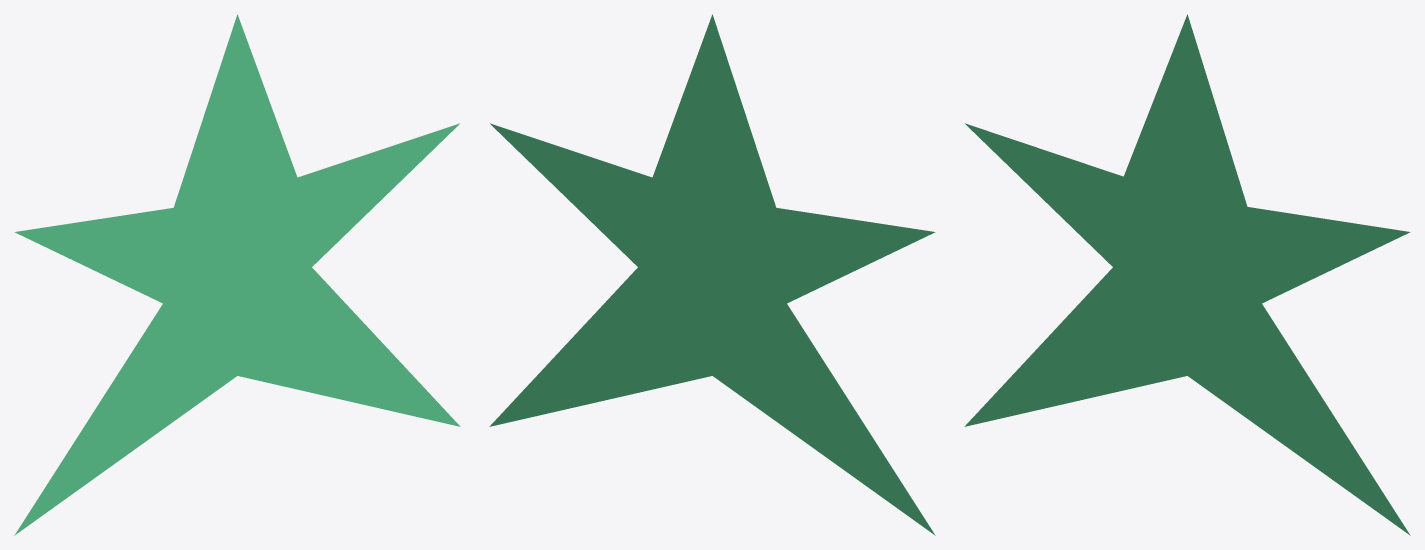
Rendered from star.gltf.
3 views of the same model, side by side, from view 1: azimuth 30°, elevation 25°; view 2: azimuth 150°, elevation 25°; view 3: azimuth 330°, elevation 25° (orthographic).
Visible parts, largest first — view 1: Plane; view 2: Plane; view 3: Plane.
Part boxes in pixels (x1=…): Plane: x1=14, y1=14, x2=460, y2=535; Plane: x1=489, y1=14, x2=935, y2=535; Plane: x1=964, y1=14, x2=1410, y2=535.
Size of the model in its own units: 2 by 2 by 8.74e-08.
